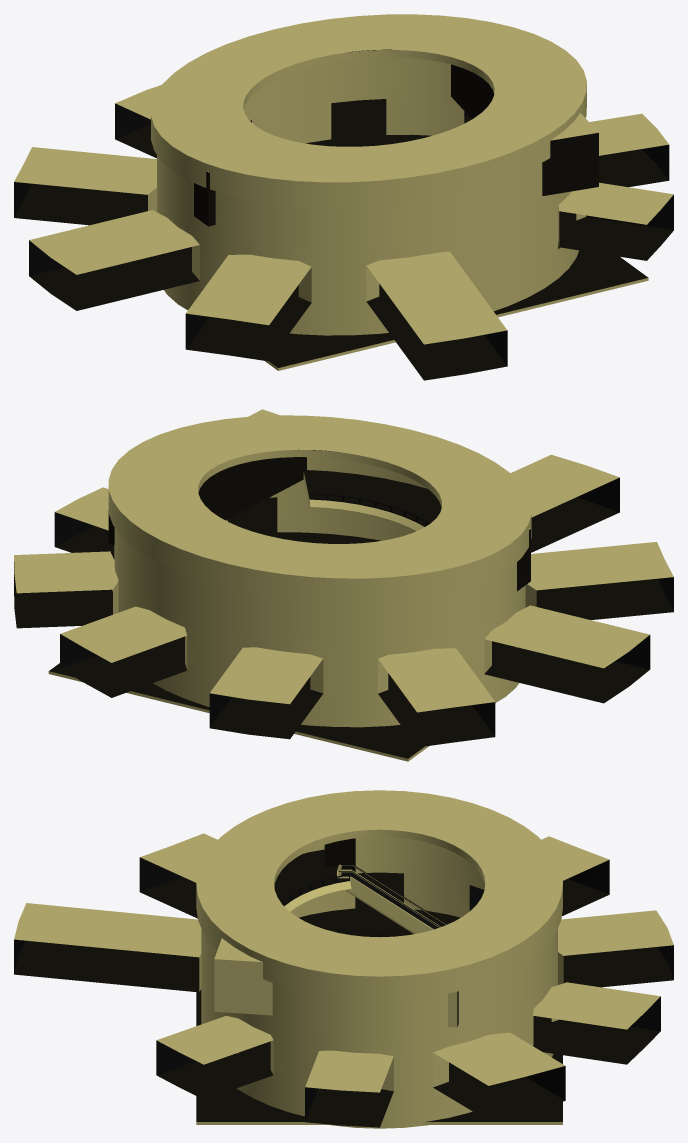
Rendered from Mall.obj.
3 views of the same model, one above another, from view 1: azimuth 30°, elevation 25°; view 2: azimuth 150°, elevation 25°; view 3: azimuth 270°, elevation 25° (orthographic). The views are drawn at different scales.
Visible parts, largest first — view 1: BézierCircle.001, Cube.001; view 2: BézierCircle.001, Cube.001; view 3: BézierCircle.001, Cube.001, Cube.003.
Boxes of the visible parts, x1,y1,x2,y2 form: BézierCircle.001: (14,14,673,380); Cube.001: (265,250,648,370); BézierCircle.001: (14,409,673,747); Cube.001: (48,663,428,761); BézierCircle.001: (14,790,673,1128); Cube.001: (196,989,562,1124); Cube.003: (337,864,447,933).
Size of the model in its own units: 368 by 114 by 366.
